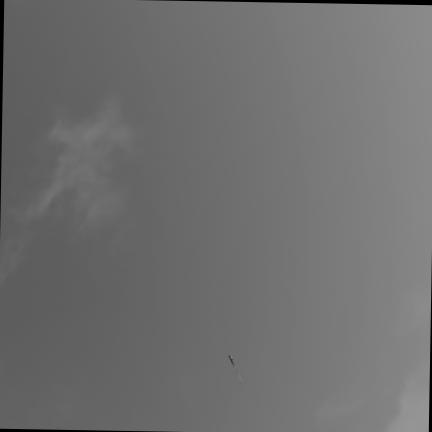Shahed: (228, 355, 241, 381)
